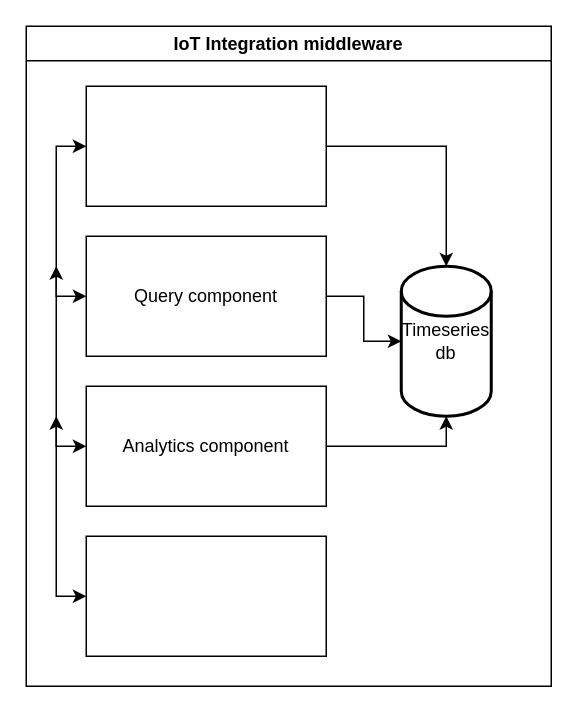
Image size: 578x713. Some labels were removed from this diagram. Each missing label, with the centre of its shape:
Device Actuation component: point (205, 595)
Ingestion component: point (205, 145)
